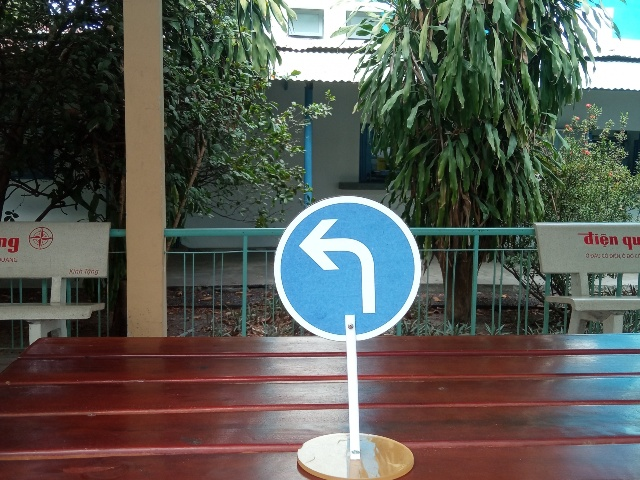Left_Sign: (274, 195, 422, 343)
